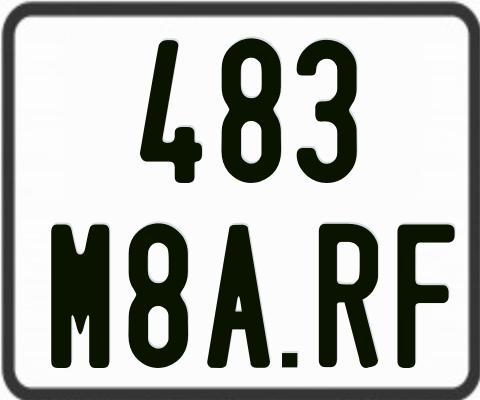3: (297, 38, 362, 182)
4: (137, 39, 203, 185)
8: (221, 36, 287, 186), (125, 223, 188, 371)
A: (205, 225, 273, 369)
F: (397, 222, 457, 371)
M: (49, 221, 109, 370)
R: (318, 221, 377, 371)
